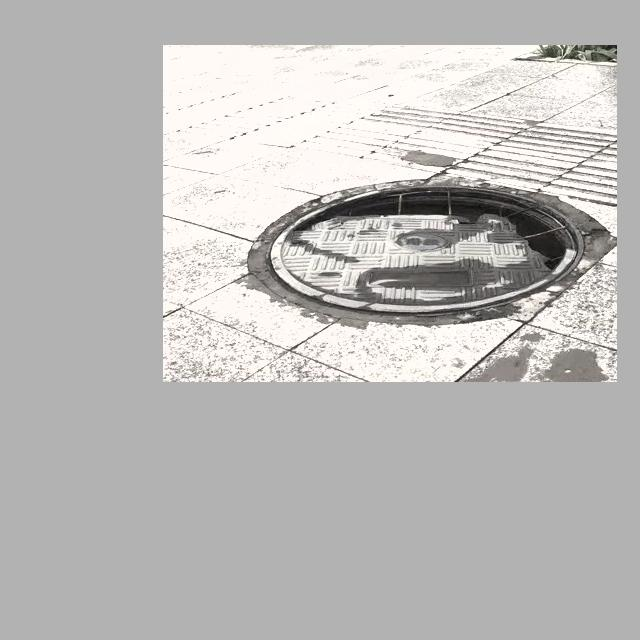broke: (267, 183, 586, 316)
